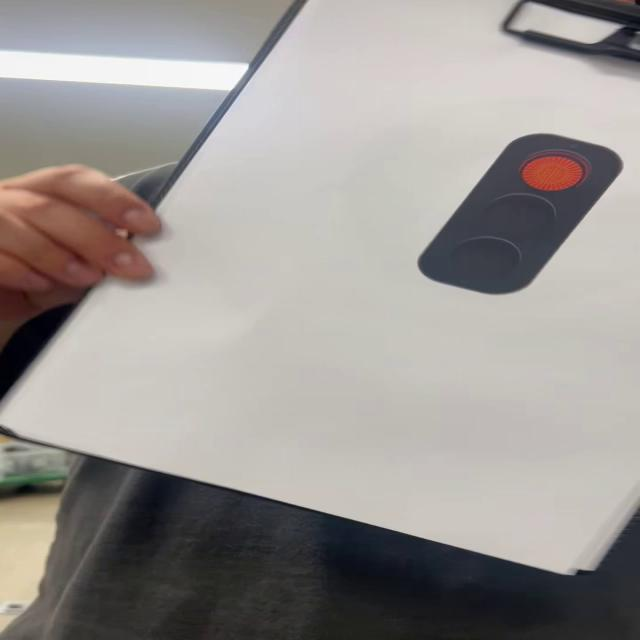red: (417, 133, 626, 298)
